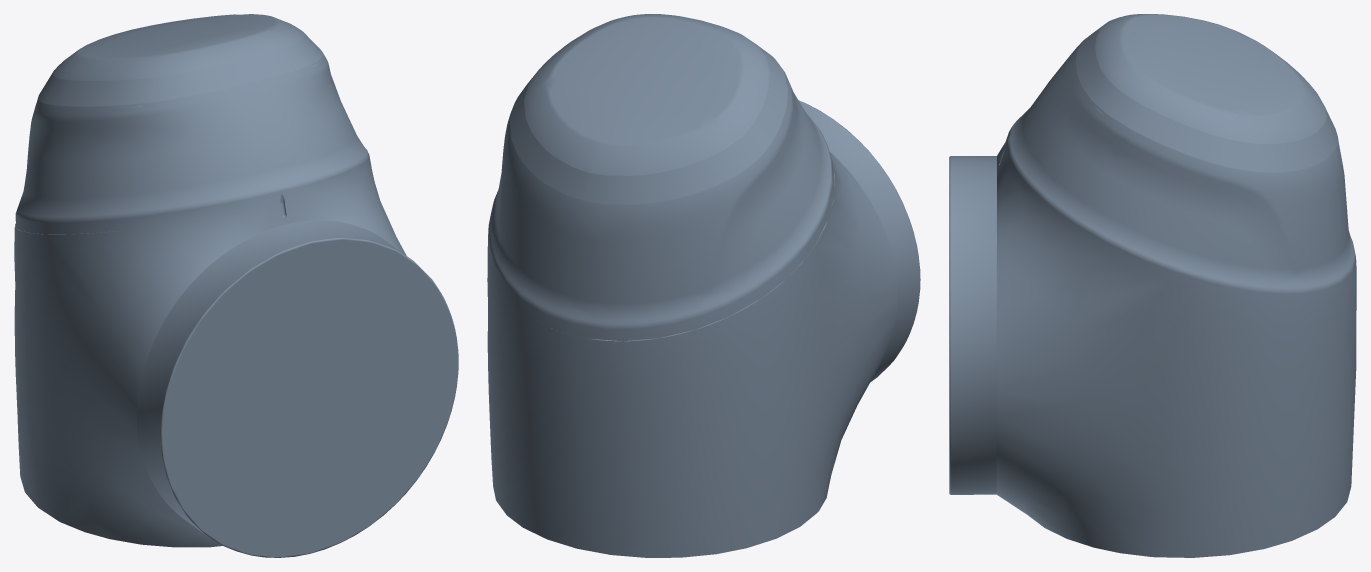
File: DoosanA0509S_j0.gltf
3 views of the same model, side by side, from view 1: azimuth 30°, elevation 25°; view 2: azimuth 150°, elevation 25°; view 3: azimuth 270°, elevation 25° (orthographic). The views are drawn at different scales.
Parts seen in each view (by area): view 1: J1_A0509S; view 2: J1_A0509S; view 3: J1_A0509S.
Part boxes in pixels (bbox=[...]): J1_A0509S: bbox=[14, 14, 458, 557]; J1_A0509S: bbox=[487, 14, 920, 557]; J1_A0509S: bbox=[949, 14, 1356, 557].
Bounding box in the file's own units: 0.1221 × 0.1713 × 0.1411.
